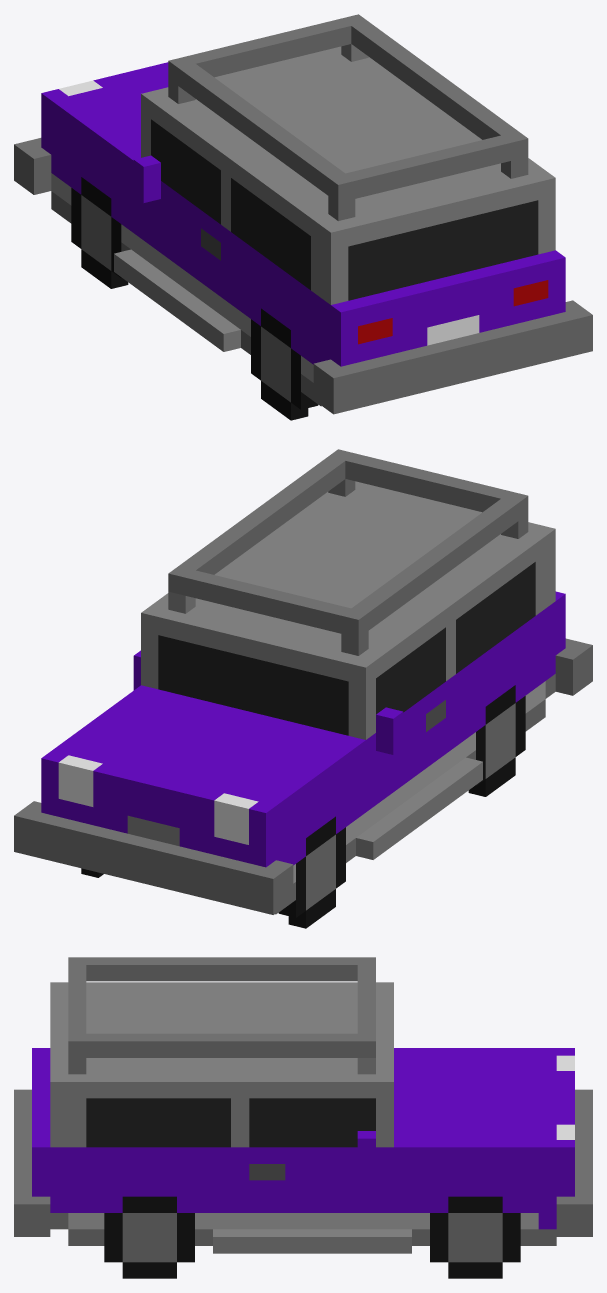
Rendered from car_05.glb.
3 views of the same model, one above another, from view 1: azimuth 30°, elevation 25°; view 2: azimuth 150°, elevation 25°; view 3: azimuth 270°, elevation 25° (orthographic). The views are drawn at different scales.
Parts seen in each view (by area): view 1: ObjObject; view 2: ObjObject; view 3: ObjObject.
Boxes of the visible parts, x1=… form: ObjObject: x1=14, y1=14, x2=592, y2=420; ObjObject: x1=14, y1=449, x2=592, y2=928; ObjObject: x1=14, y1=957, x2=592, y2=1278.
Size of the model in its own units: 1.5 by 1.4 by 3.2.
1 material, 1 textured.
